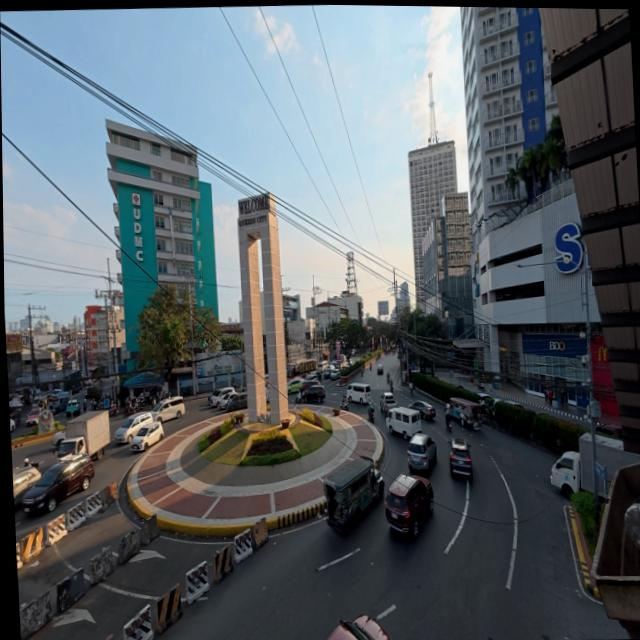car: (115, 413, 167, 450), (408, 431, 439, 472), (148, 393, 185, 420), (208, 384, 247, 408)
vans: (344, 382, 374, 406)
